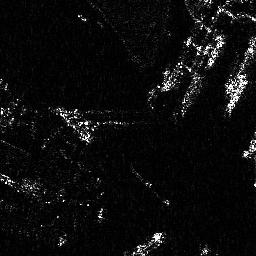ship: (128, 231, 168, 256), (225, 78, 248, 113), (205, 39, 224, 69)
